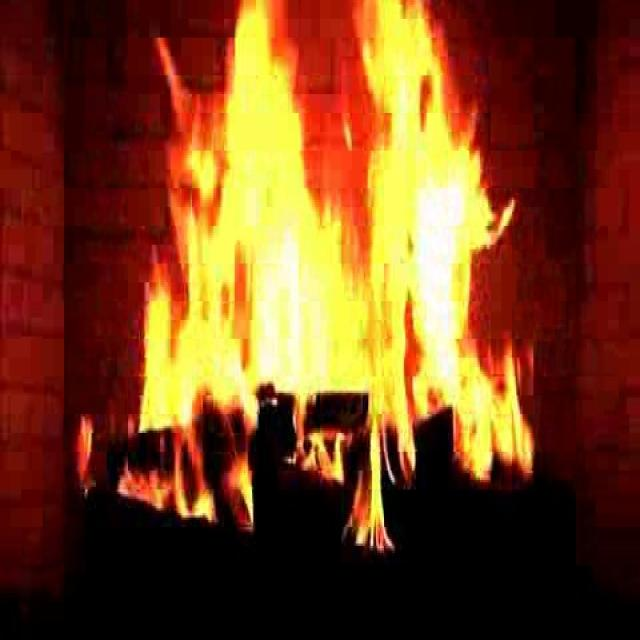fire: (152, 22, 530, 544)
